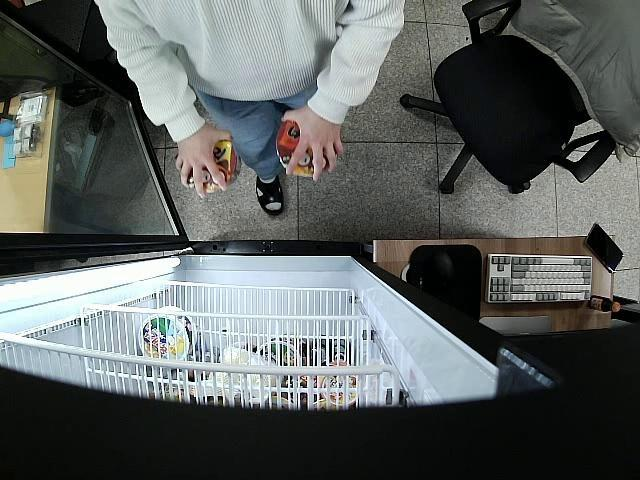05_nuguri_L: (182, 136, 242, 190), (276, 121, 332, 177)
